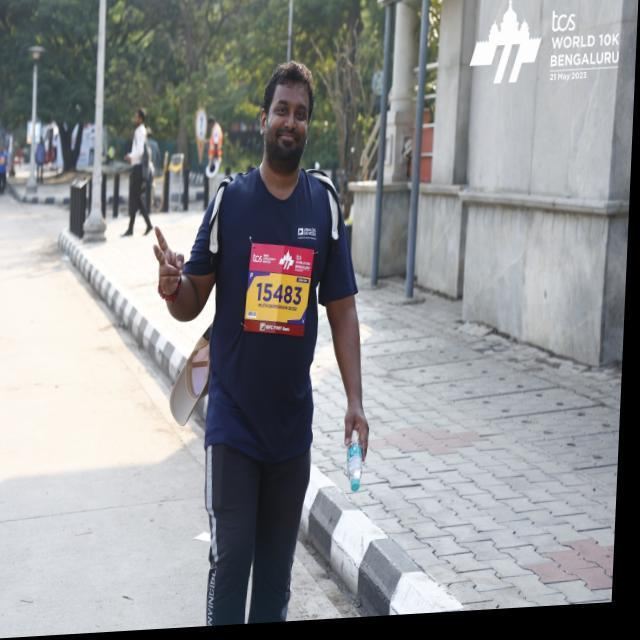dorsal: (247, 238, 318, 343)
